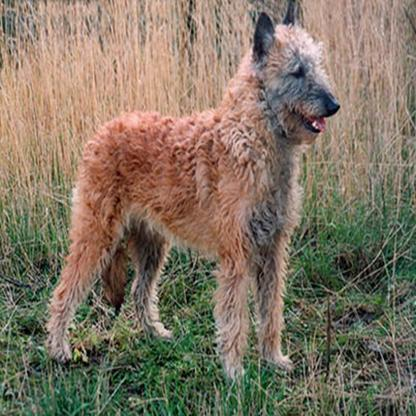Belgian Laekenois: (57, 4, 344, 366)
